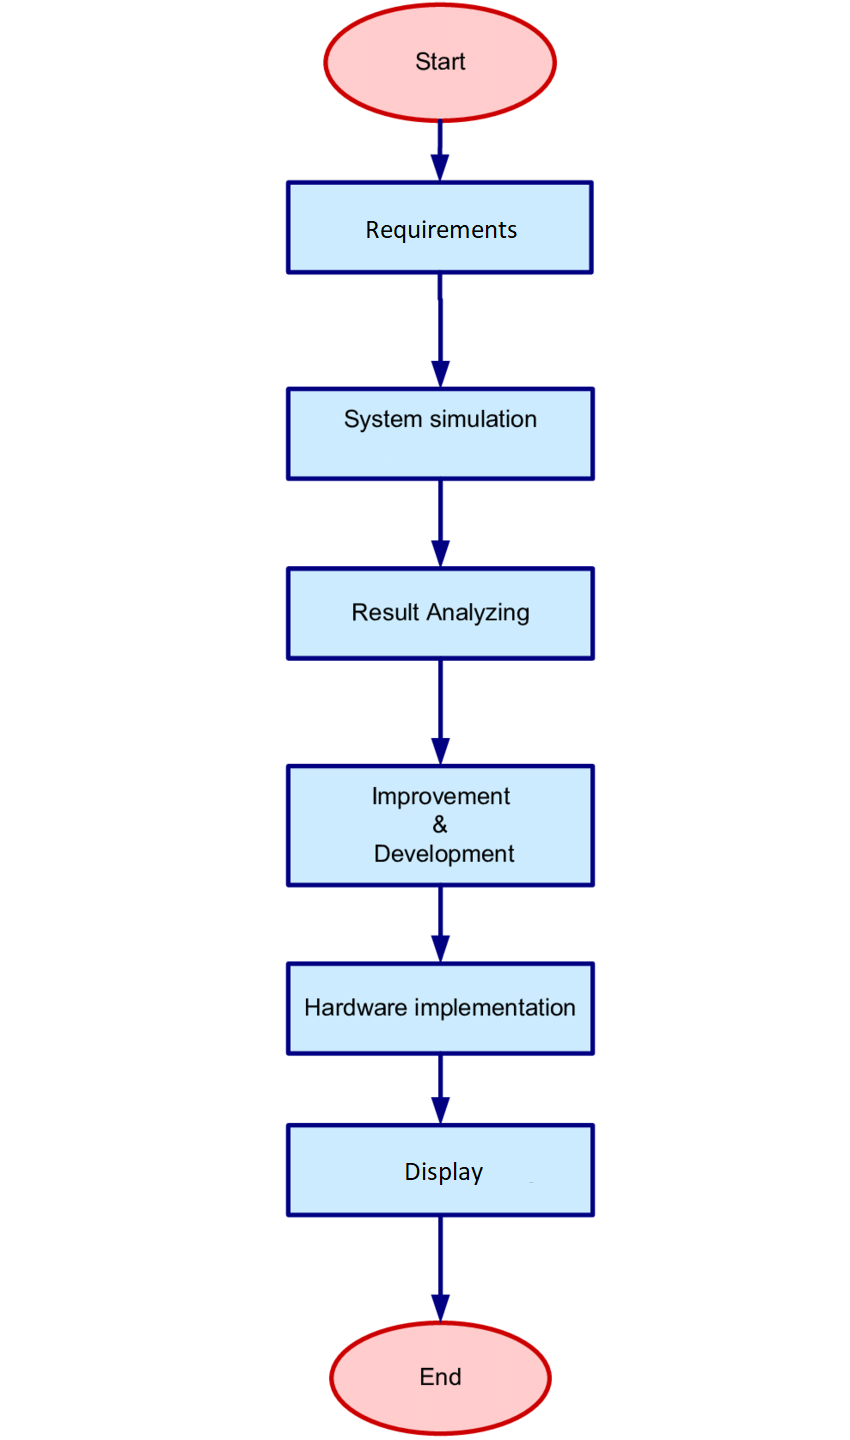arrow: (421, 648, 463, 765), (423, 262, 461, 390), (423, 1212, 461, 1330), (421, 475, 462, 568), (423, 1046, 469, 1127), (421, 891, 463, 966), (423, 114, 456, 174)
process: (279, 751, 599, 895), (276, 375, 599, 488), (277, 1117, 597, 1226), (279, 175, 599, 283), (281, 955, 598, 1064), (277, 562, 606, 666)
terminator: (322, 1314, 565, 1440), (315, 6, 564, 128)
text: (354, 781, 529, 870), (297, 993, 576, 1026), (343, 588, 532, 631), (342, 400, 550, 436), (364, 208, 523, 250), (398, 1147, 489, 1192), (409, 36, 474, 76), (415, 1354, 467, 1395)
